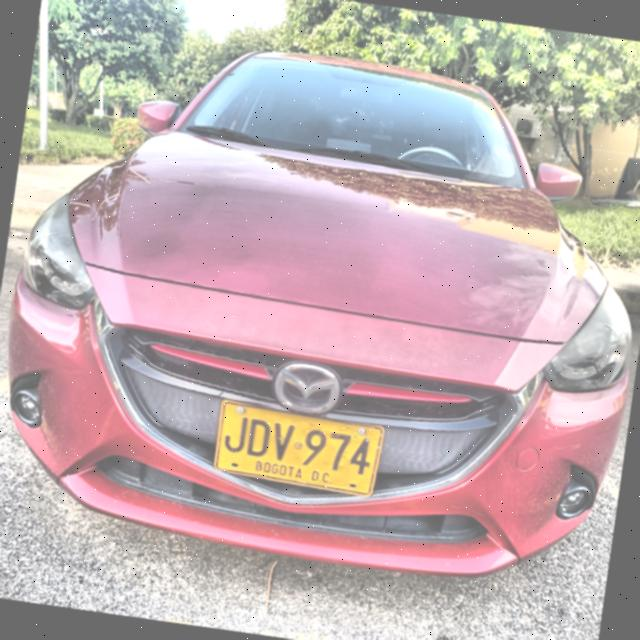4: (348, 436, 375, 478)
7: (324, 431, 352, 474)
9: (300, 426, 328, 470)
D: (244, 418, 274, 458)
J: (222, 414, 250, 455)
V: (269, 420, 296, 463)
